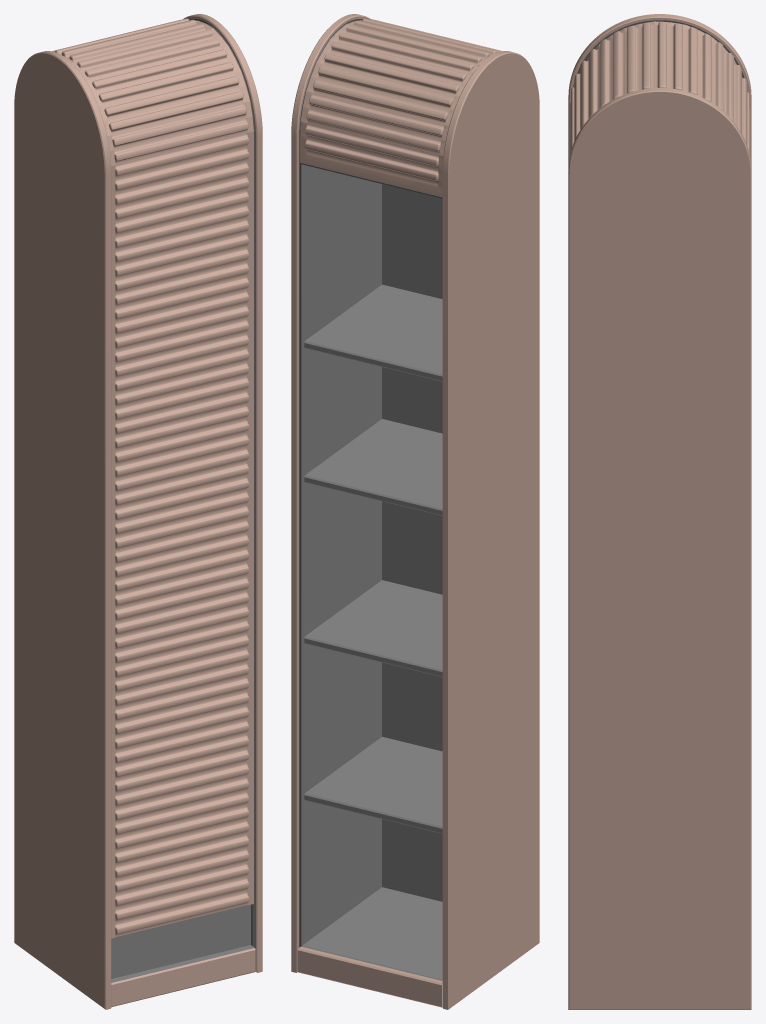
3 views of the same model, side by side, from view 1: azimuth 30°, elevation 25°; view 2: azimuth 150°, elevation 25°; view 3: azimuth 270°, elevation 25° (orthographic).
Visible parts, largest first — view 1: cabinet_zijpaneel_205_right, segment_rechts (×63), cabinet_zijpaneel_205_left, segment_midden (×13), cabinet_achterwand, cabinet_plint, segment17, segment18, segment15, segment16, segment32, segment20 (+56 smaller); view 2: cabinet_zijpaneel_205_right, cabinet_zijpaneel_205_left, cabinet_achterwand, cabinet_plint, segment_rechts (×10), cabinet_plank_1, cabinet_plank_2, cabinet_plank_4, cabinet_plank_3, segment_midden (×6), segment00, segment04 (+10 smaller); view 3: cabinet_zijpaneel_205_left, segment_rechts (×6), cabinet_zijpaneel_205_right, segment11.
Boxes of the visible parts, <box> form: cabinet_zijpaneel_205_right: <box>14,51,111,1009</box>; segment_rechts (×63): <box>66,40,183,938</box>; cabinet_zijpaneel_205_left: <box>183,14,262,972</box>; segment_midden (×13): <box>143,68,221,337</box>; cabinet_achterwand: <box>111,904,250,978</box>; cabinet_plint: <box>111,945,255,1006</box>; segment17: <box>178,101,252,130</box>; segment18: <box>181,116,253,147</box>; segment15: <box>174,71,245,101</box>; segment16: <box>180,86,249,116</box>; segment32: <box>182,317,253,344</box>; segment20: <box>181,145,253,175</box>; cabinet_zijpaneel_205_right: <box>442,51,539,1009</box>; cabinet_zijpaneel_205_left: <box>291,14,381,972</box>; cabinet_achterwand: <box>382,184,442,901</box>; cabinet_plint: <box>297,887,442,1007</box>; segment_rechts (×10): <box>370,42,486,184</box>; cabinet_plank_1: <box>304,736,442,833</box>; cabinet_plank_2: <box>304,580,442,677</box>; cabinet_plank_4: <box>304,284,442,381</box>; cabinet_plank_3: <box>304,419,442,515</box>; segment_midden (×6): <box>332,62,422,170</box>; segment00: <box>299,150,372,181</box>; segment04: <box>303,91,376,123</box>; cabinet_zijpaneel_205_left: <box>568,88,751,1009</box>; segment_rechts (×6): <box>624,21,713,71</box>; cabinet_zijpaneel_205_right: <box>568,14,751,168</box>; segment11: <box>639,56,654,89</box>.
Bounding box in the file's own units: 0.37 × 2.05 × 0.37.
